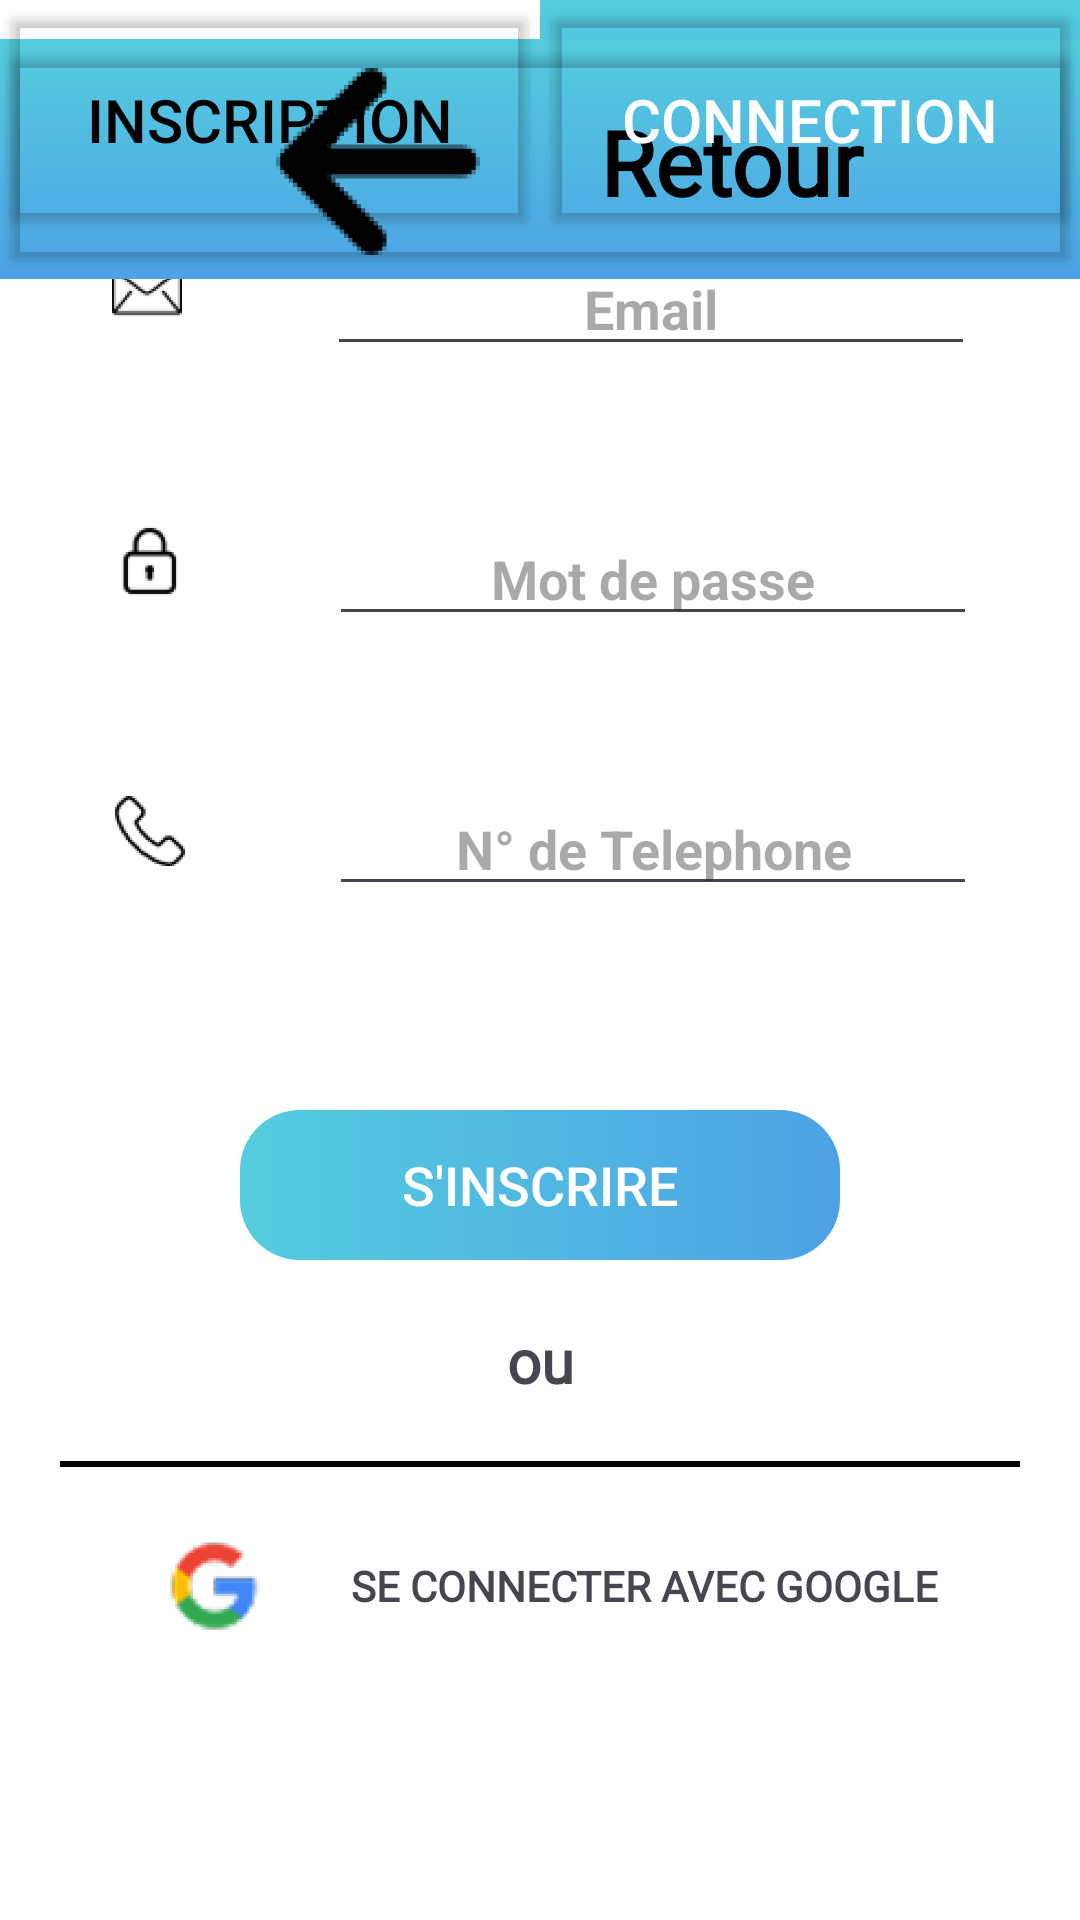

Point at icon controls on the screen. Image size 1080px x 1920px, points as [x,y].
tel: [150,831]
verrou: [150,561]
